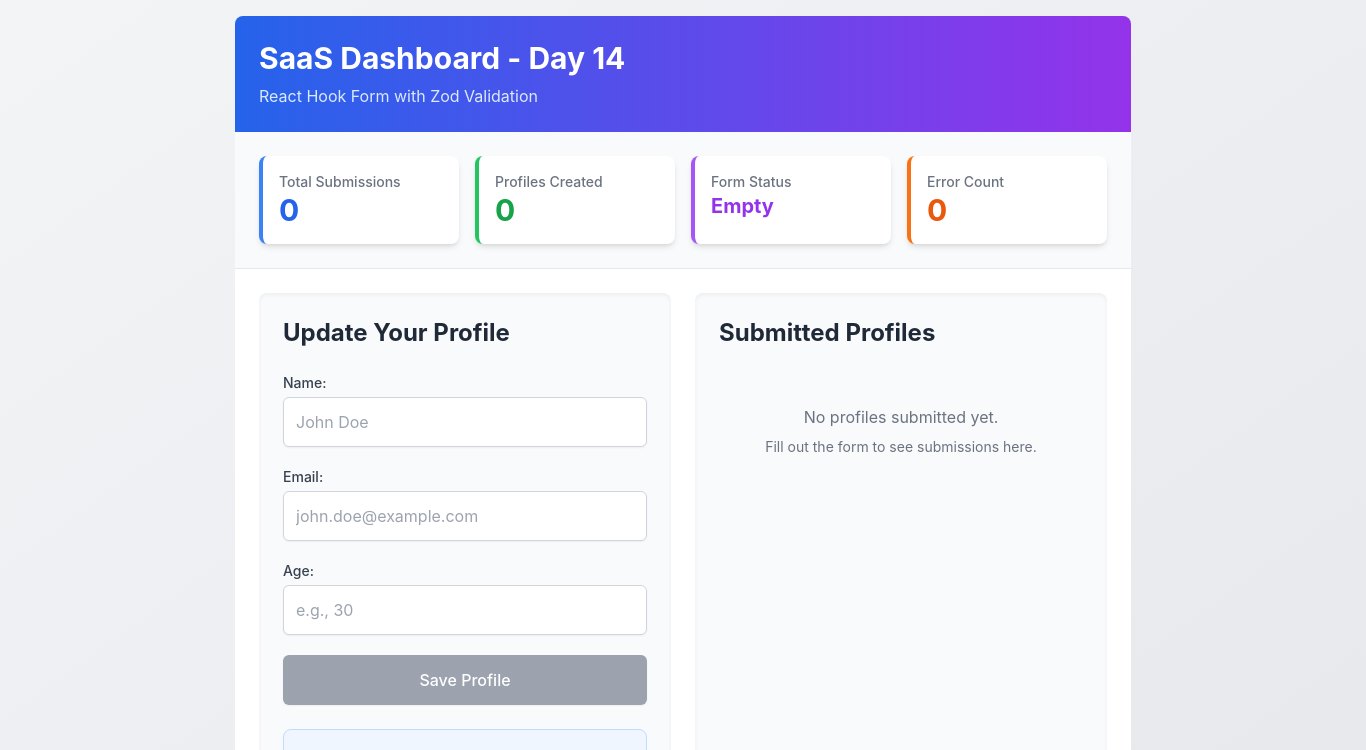
Scenario: SaaS Dashboard - Day 14 › displays submitted profile card
Type "Jane Smith" into the field labelled "Name:".
click(465, 422); type("Jane Smith")  # box [283,397,647,447]
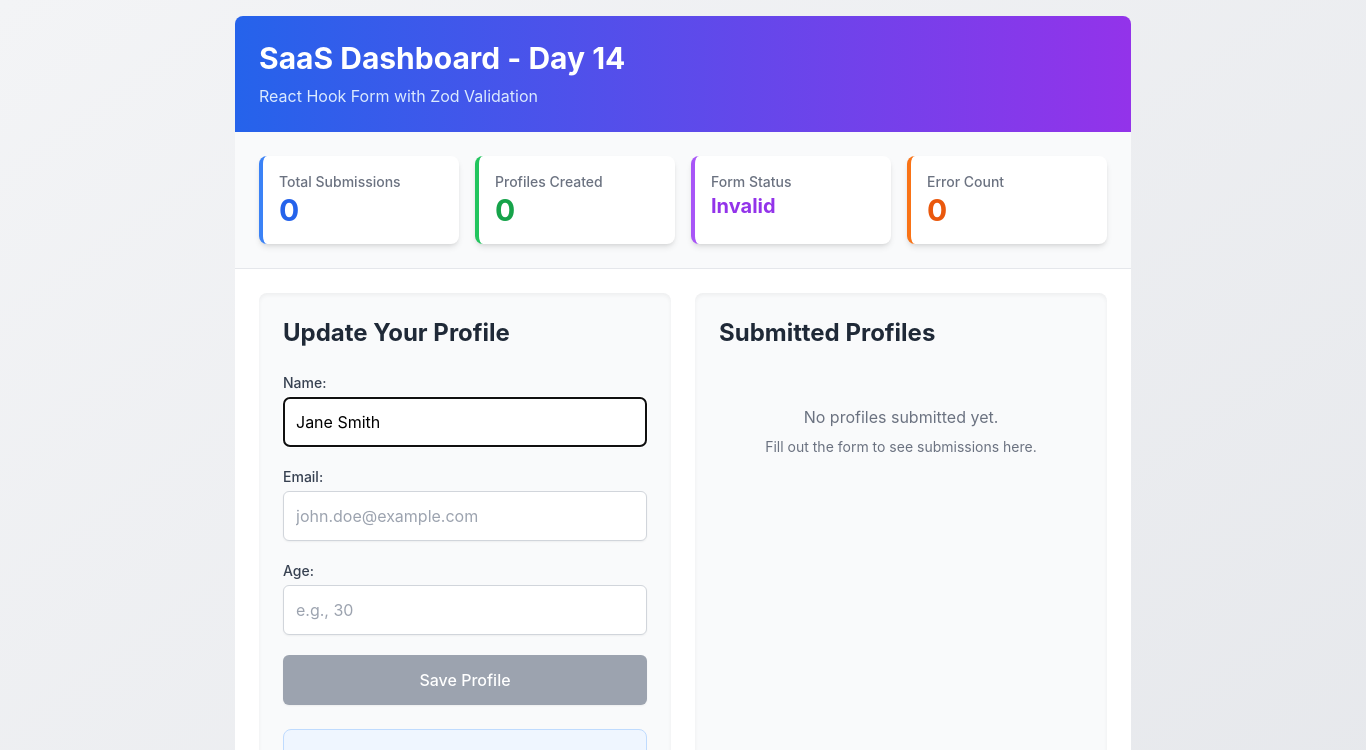
Type "jane@test.com" into the field labelled "Email:".
click(465, 516); type("jane@test.com")  # box [283,491,647,541]
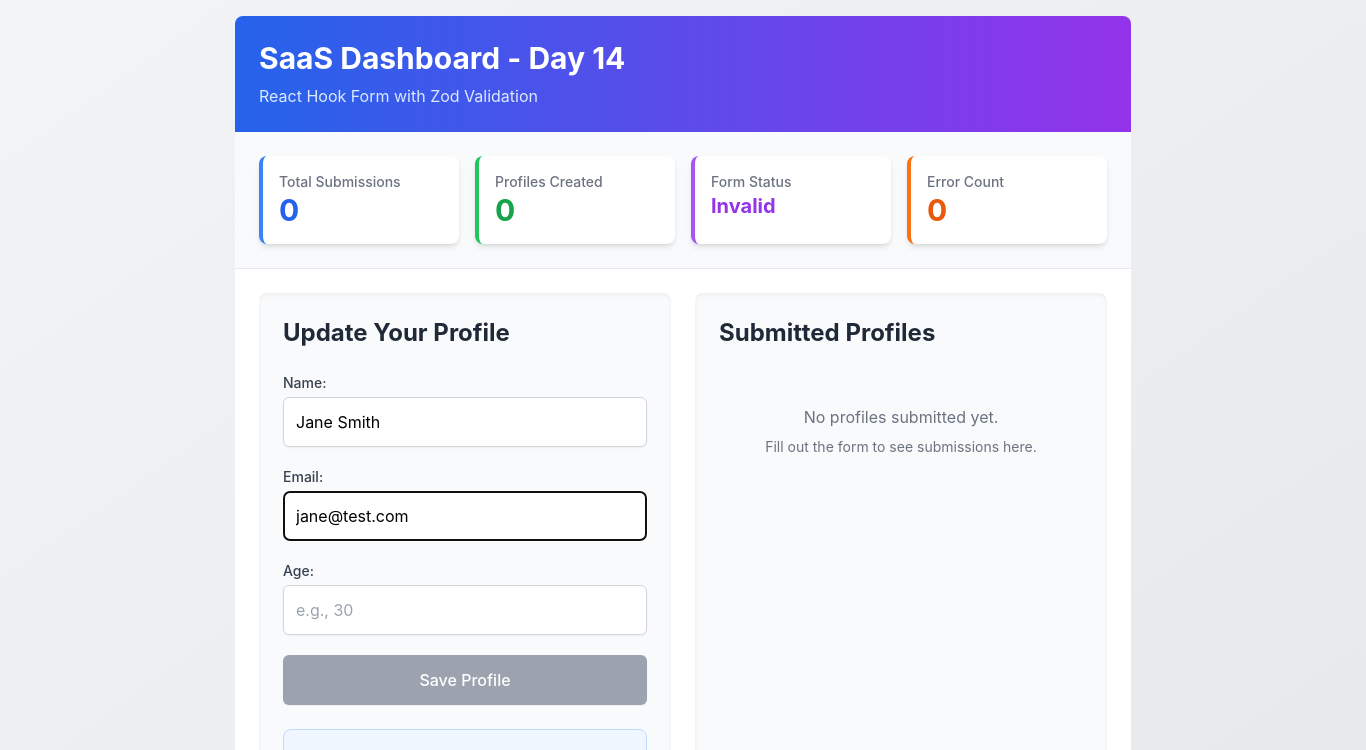
Type "30" into the number field labelled "Age:".
click(465, 610); type("30")  # box [283,585,647,635]
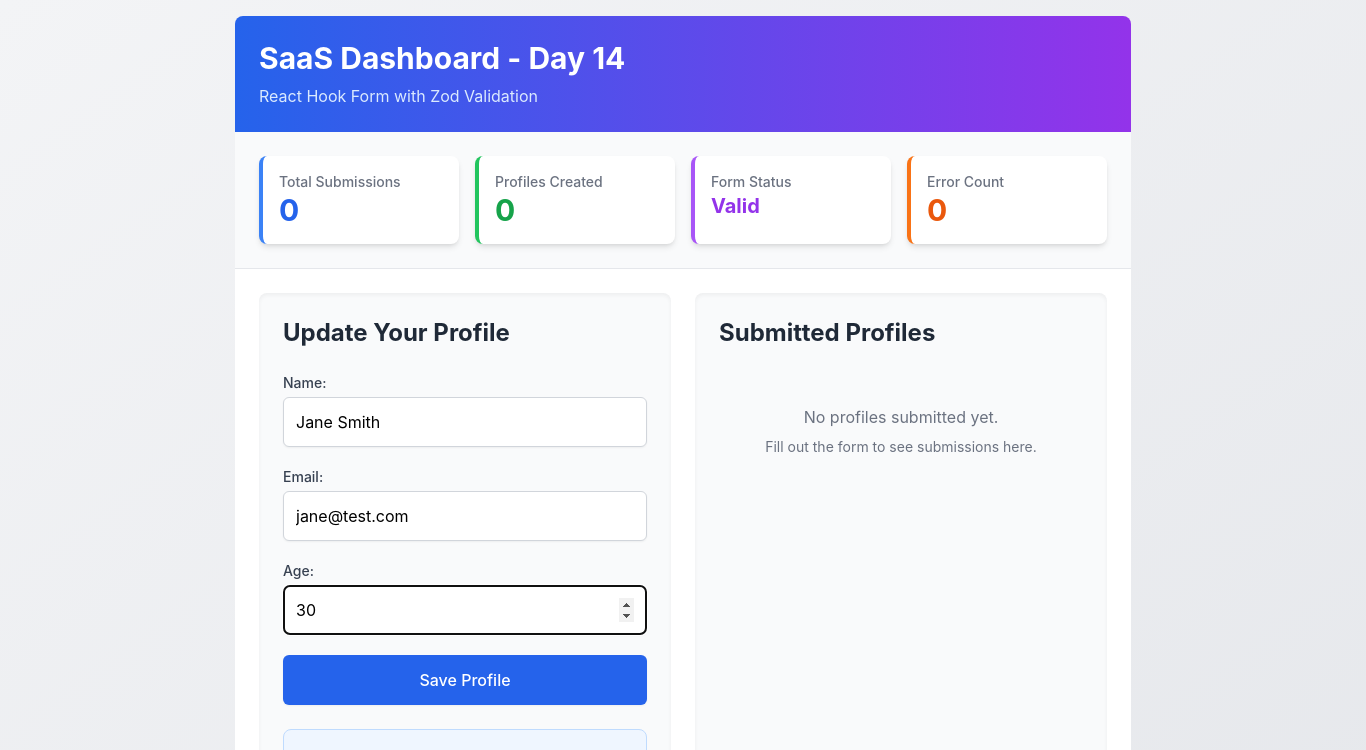
Expected: the button "Save Profile" is enabled
Click the button "Save Profile".
click(465, 680)  # box [283,655,647,705]
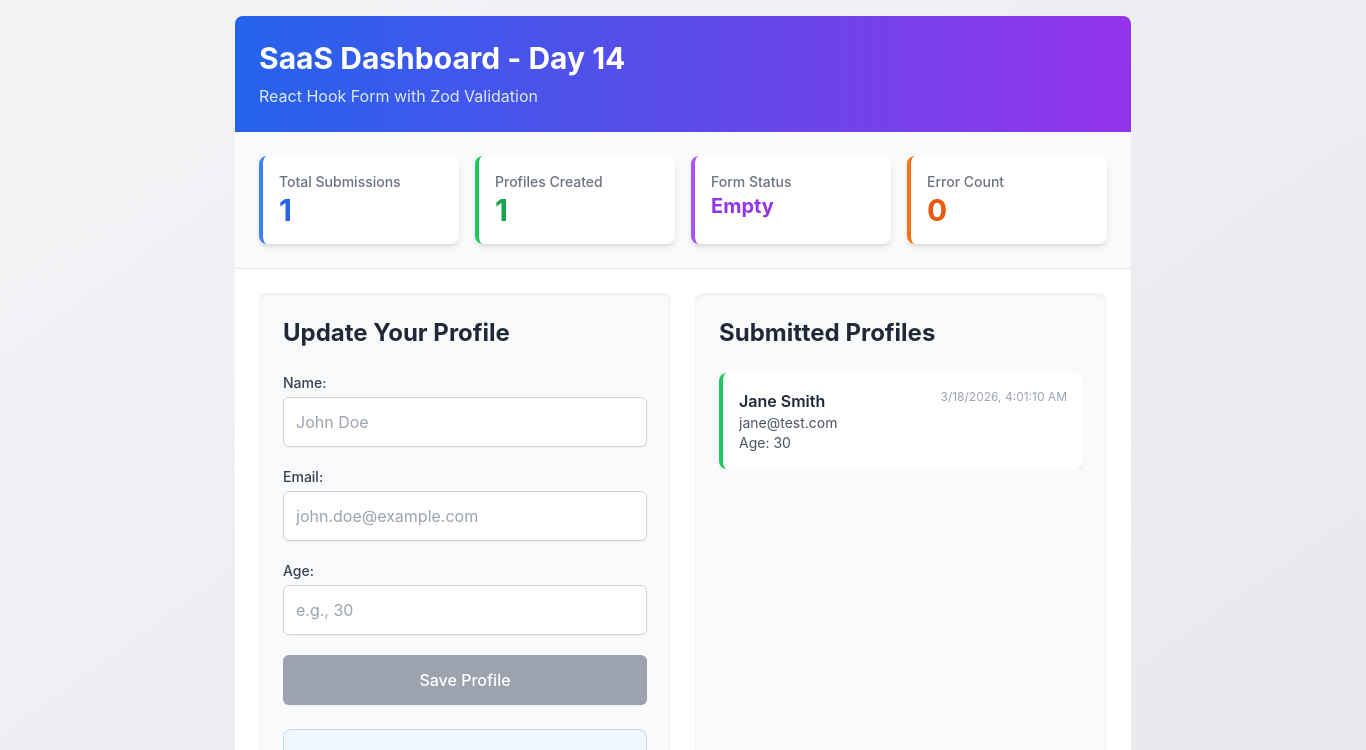
Expected: the heading "Jane Smith" is shown, [739,389,838,413]
Expected: the text "jane@test.com" is shown, [739,413,838,433]
Expected: the element with test id "profile-card" is shown, [719,373,1083,469]
